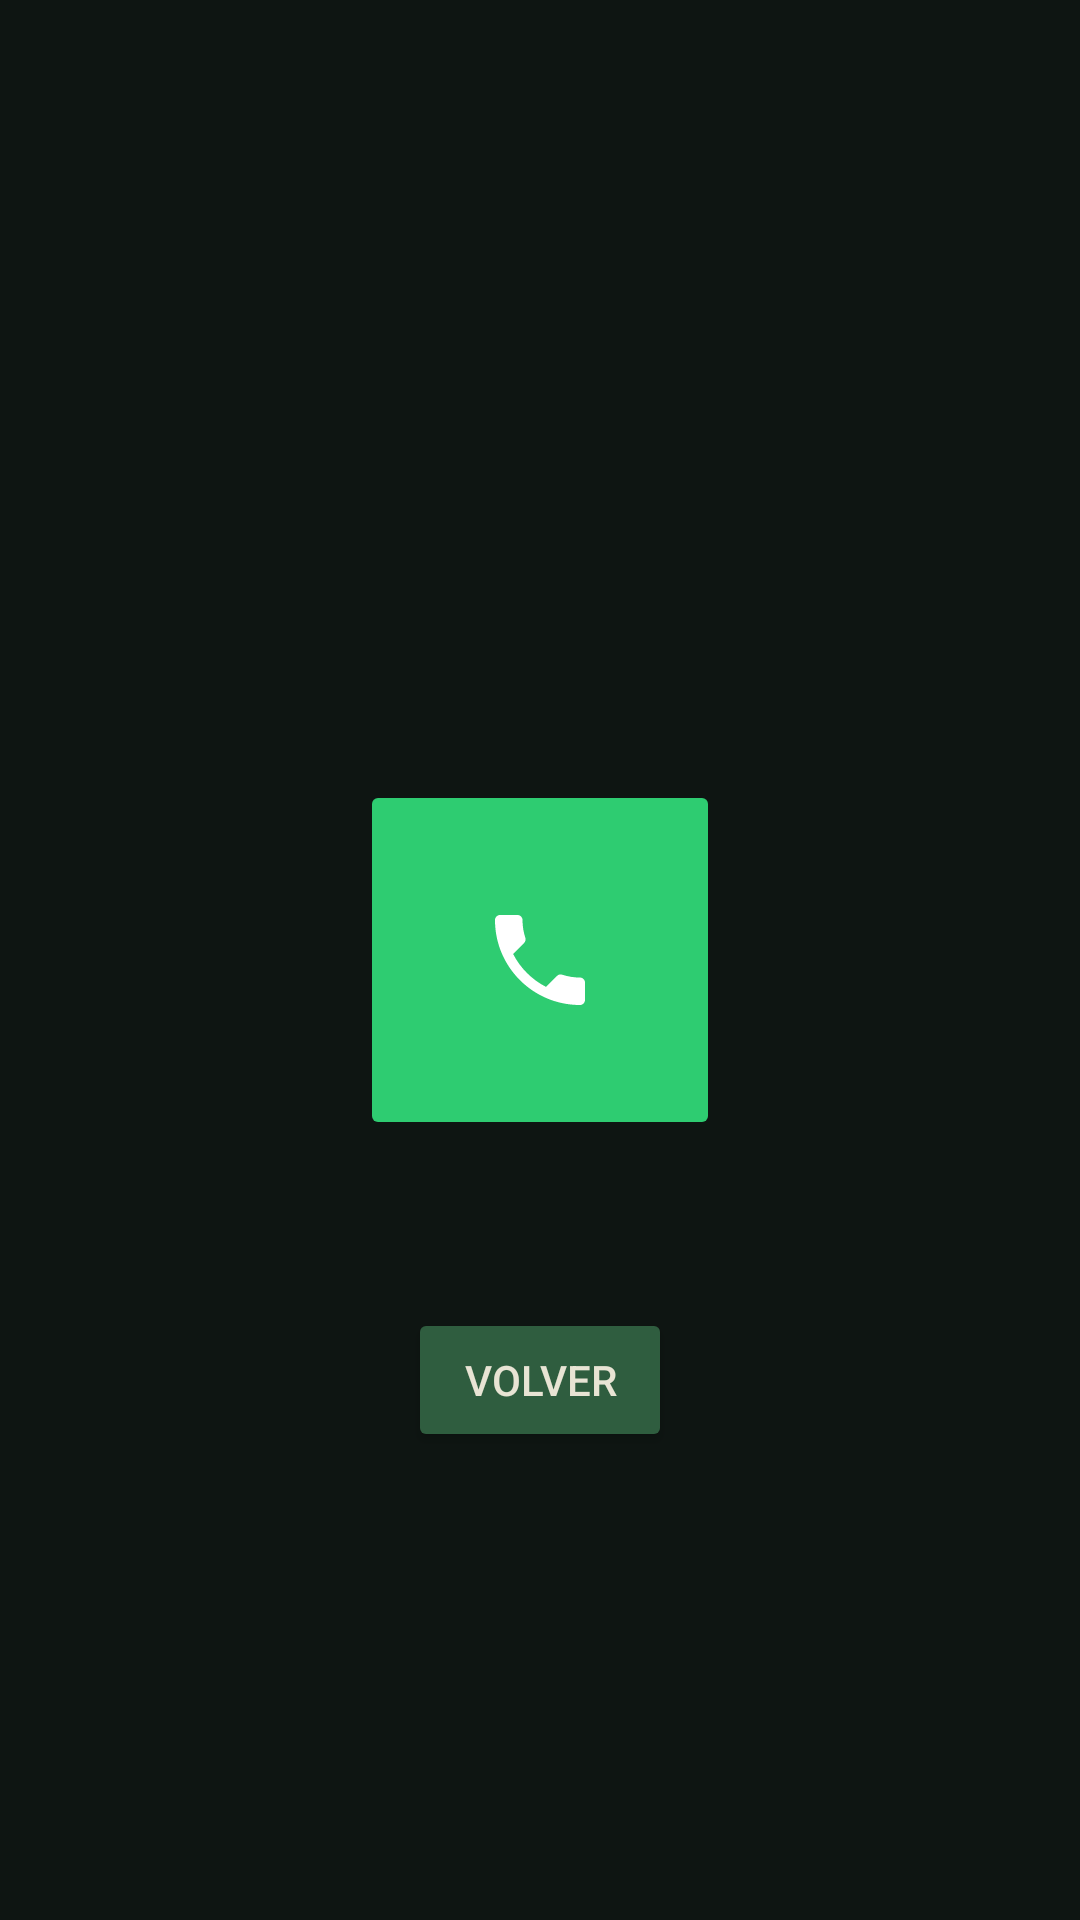

Icon bounding boxes for this 1080 × 1920 phone screenshot, format bbox(x1, y1, x2, y2):
Llamar: bbox(372, 798, 708, 1122)
